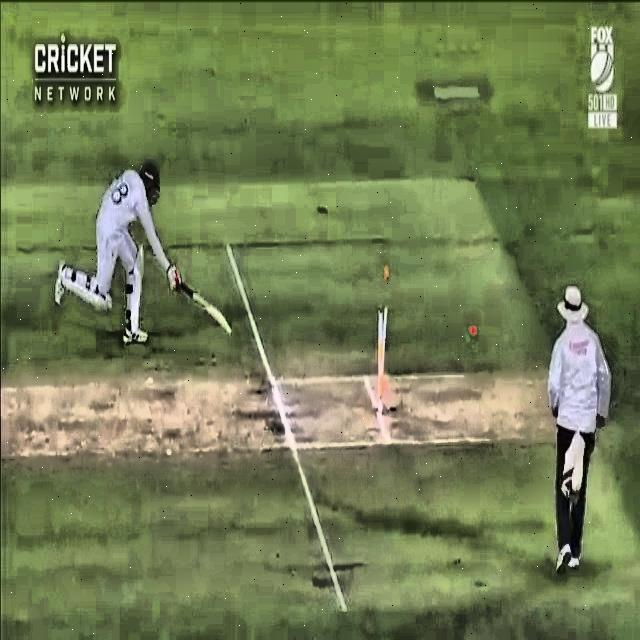Bat: (158, 264, 236, 340)
Dis_Wicket: (360, 258, 398, 429), (453, 315, 484, 351)
Pitch_Line: (216, 245, 353, 611)
